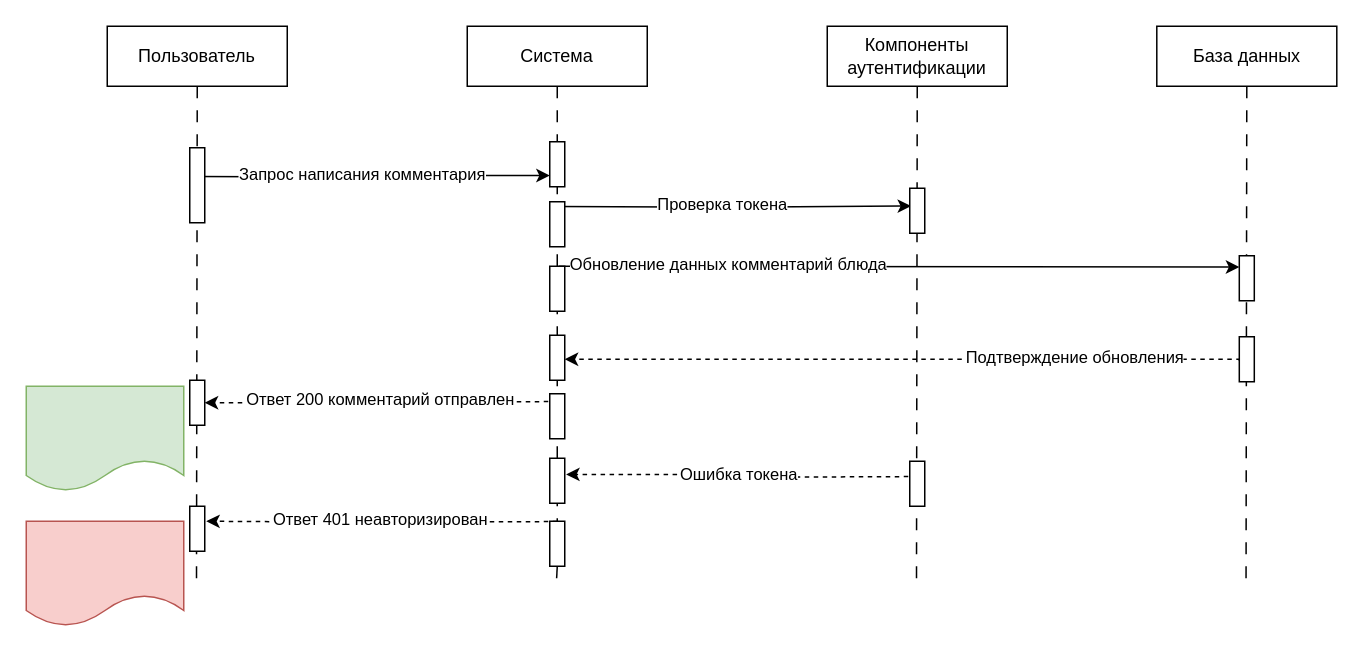
This 1364x653 diagram has some shape labels left out. Here are the shapes that lost their labels. From the top down, the centre of each, then its label:
the point at 104,438: Отправка комментария успешно
the point at 104,573: Отправка комментария не успешно
